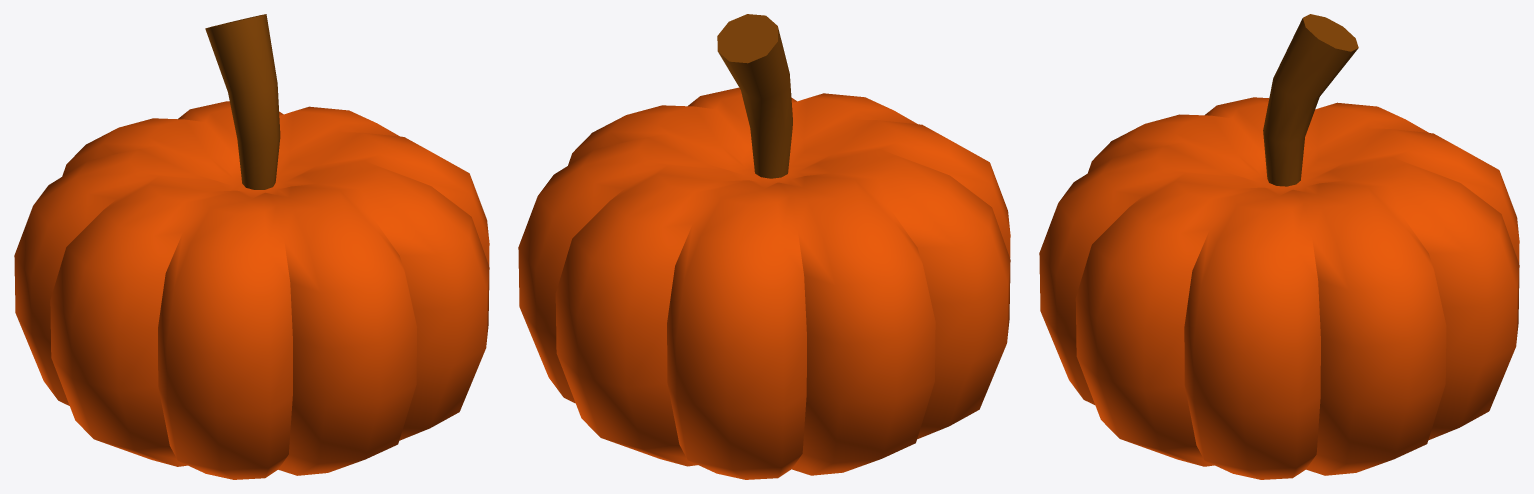
File: Pumpkin.fbx
3 views of the same model, side by side, from view 1: azimuth 30°, elevation 25°; view 2: azimuth 150°, elevation 25°; view 3: azimuth 270°, elevation 25° (orthographic). The views are drawn at different scales.
Visible parts, largest first — view 1: Pumpkin; view 2: Pumpkin; view 3: Pumpkin.
Part boxes in pixels (bbox=[...]): Pumpkin: bbox=[14, 14, 489, 479]; Pumpkin: bbox=[518, 14, 1010, 479]; Pumpkin: bbox=[1039, 14, 1519, 479].
Size of the model in its own units: 267 by 244 by 264.
